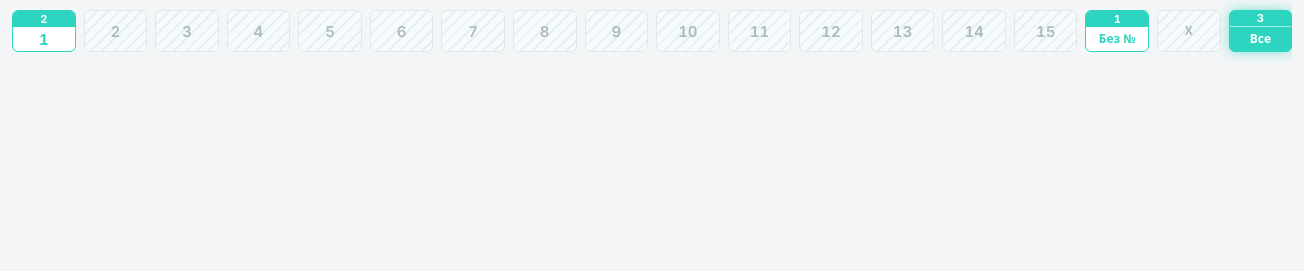
Test: marking a transfer as test greys it out, counts its children as without transfer and never touches the database
expect the button "1 Без №" is shown: met, box [1085,10,1149,52]
Right-click the button "2 1" at (44, 31), box [12,10,76,52]
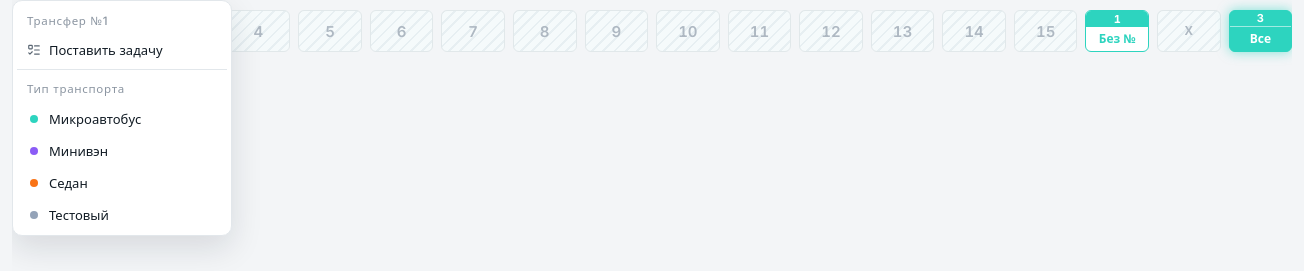
Click the menu item "Тестовый" at (122, 214), box [17,198,227,230]
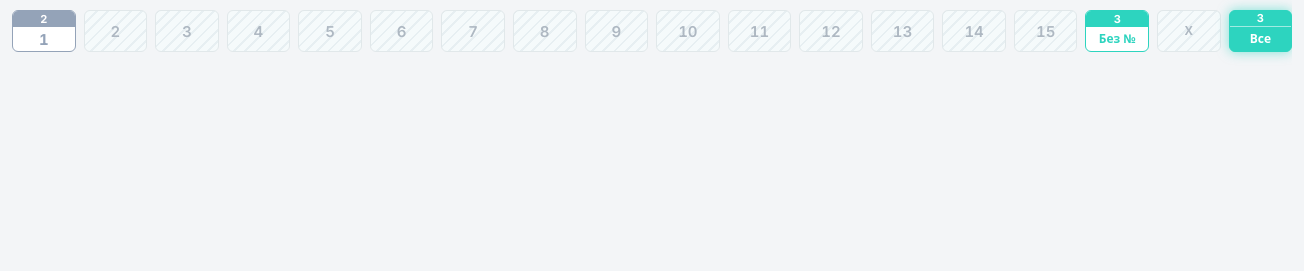
expect the button "3 Без №" is shown: met, box [1085,10,1149,52]
